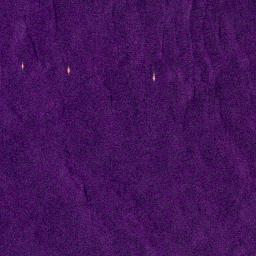Ship: (64, 63, 72, 75), (149, 72, 158, 82), (19, 61, 25, 70)
